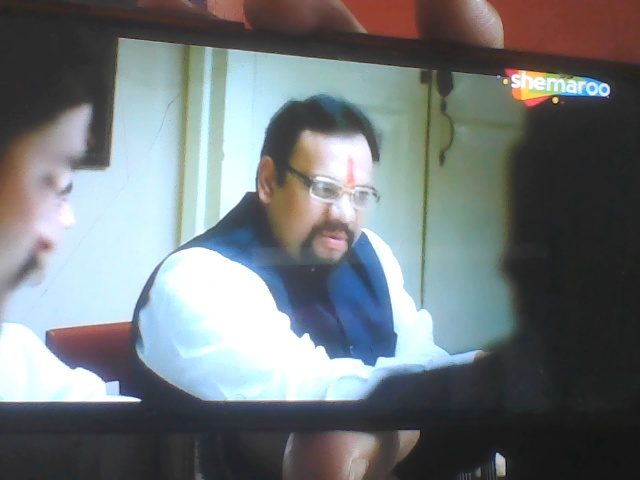fake: (255, 97, 381, 275)
